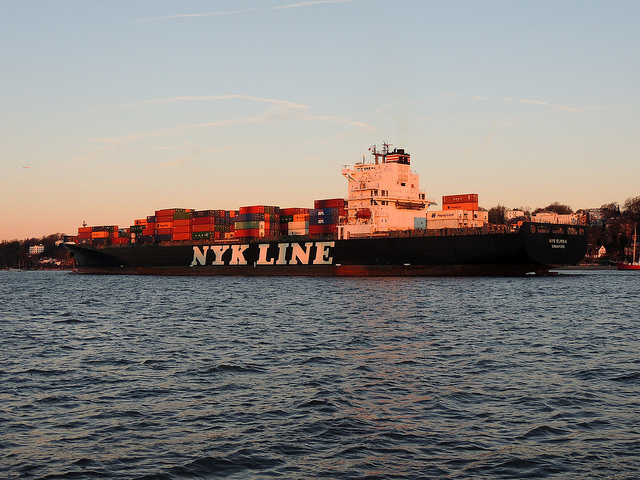container_ship: (67, 140, 590, 274)
